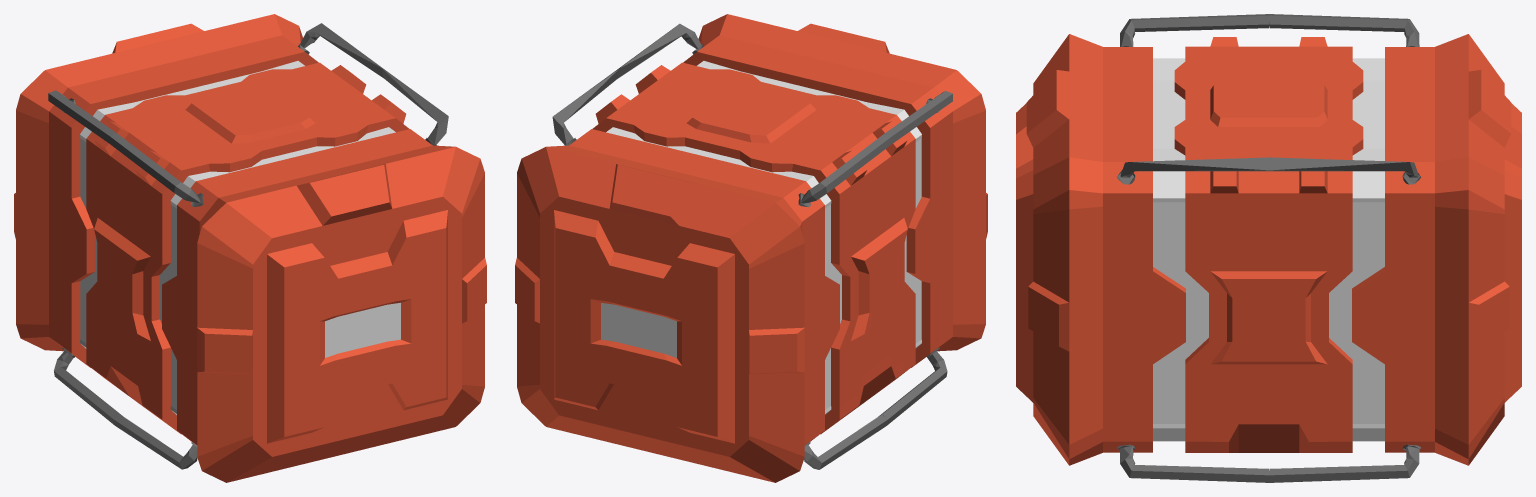
Rendered from sci fi box 2.fbx.
The picture shows the model from 3 angles, left to right: view 1: azimuth 30°, elevation 25°; view 2: azimuth 150°, elevation 25°; view 3: azimuth 270°, elevation 25°; orthographic projection. The views are drawn at different scales.
Parts seen in each view (by area): view 1: Cube, Cylinder.004, Cylinder.002, Cylinder.001; view 2: Cube, Cylinder.004, Cylinder.002, Cylinder.001; view 3: Cube, Cylinder.003, Cylinder.002, Cylinder.001.
Boxes of the visible parts, x1,y1,x2,y2 form: Cube: (14,14,486,482); Cylinder.004: (54,351,197,469); Cylinder.002: (48,90,200,202); Cylinder.001: (300,23,448,144); Cube: (515,14,987,482); Cylinder.004: (804,351,947,469); Cylinder.002: (801,91,952,203); Cylinder.001: (552,23,701,144); Cube: (1016,34,1521,465); Cylinder.003: (1120,445,1419,482); Cylinder.002: (1120,14,1419,46); Cylinder.001: (1120,157,1418,177).
Bounding box in the file's own units: 228 × 222 × 315.
